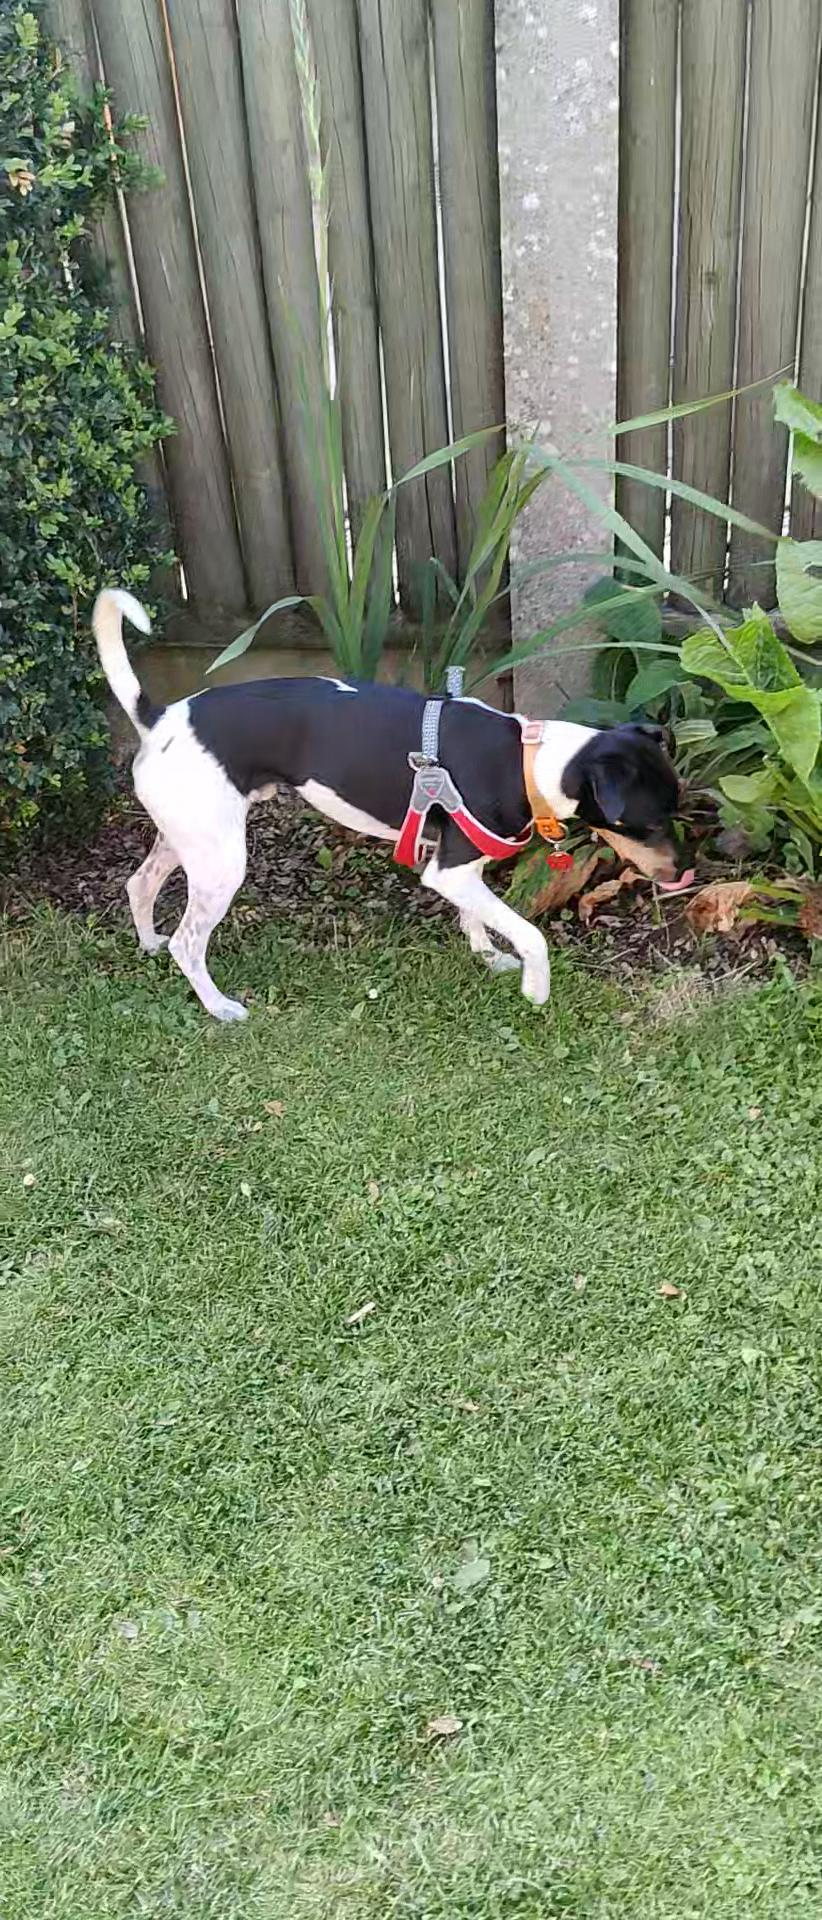Dog: (77, 568, 699, 1044)
